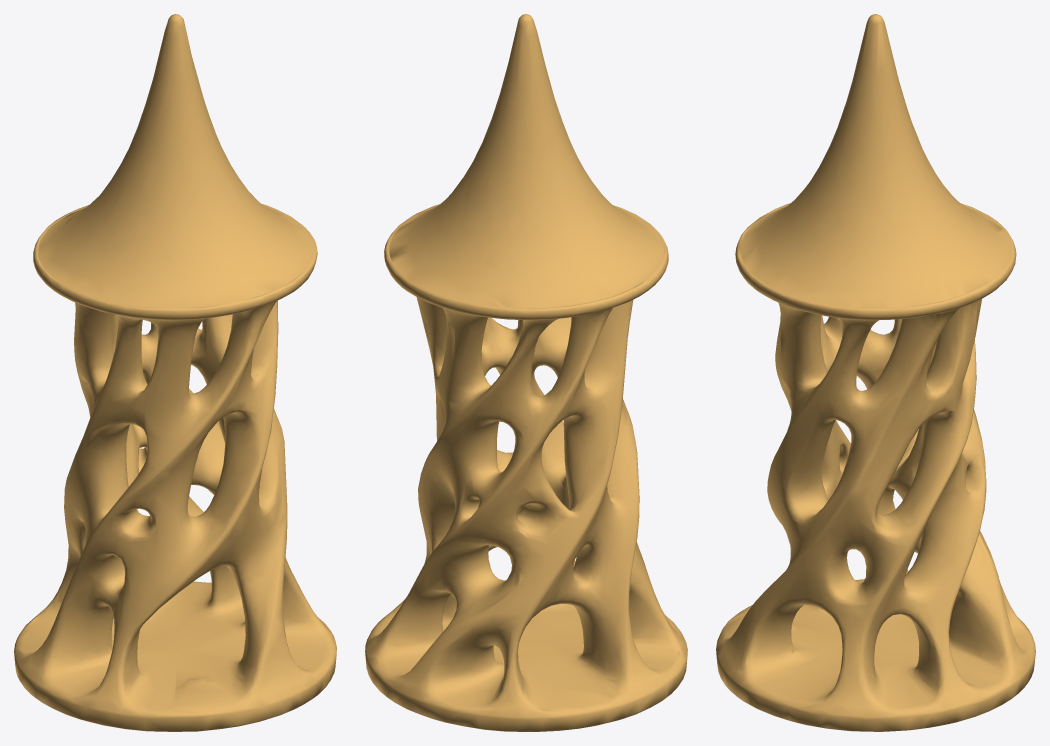
The picture shows the model from 3 angles, left to right: view 1: azimuth 30°, elevation 25°; view 2: azimuth 150°, elevation 25°; view 3: azimuth 270°, elevation 25°; orthographic projection.
Parts seen in each view (by area): view 1: node_0; view 2: node_0; view 3: node_0.
Part boxes in pixels (x1,y1,x2,y2): node_0: (14, 14, 336, 731); node_0: (365, 14, 687, 731); node_0: (716, 14, 1035, 731).
Bounding box in the file's own units: 0.4952 × 1.1 × 0.489.
